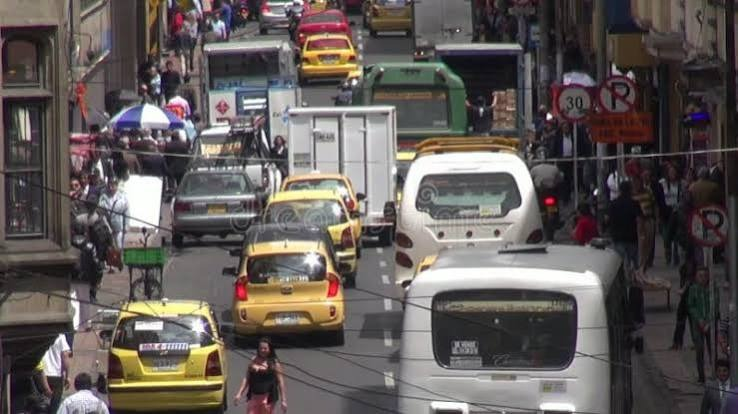car: (122, 1, 619, 246), (118, 1, 623, 229), (393, 231, 632, 413), (385, 139, 543, 284), (387, 140, 543, 281), (385, 139, 540, 278), (259, 137, 385, 260), (233, 193, 356, 318), (226, 222, 352, 344), (95, 298, 230, 406), (282, 103, 402, 216), (245, 184, 366, 282), (166, 160, 276, 248), (368, 57, 465, 155), (262, 174, 362, 260), (202, 38, 290, 131), (361, 61, 462, 142), (203, 39, 288, 132), (435, 40, 528, 124), (434, 40, 527, 122), (100, 100, 195, 174), (67, 174, 129, 272), (67, 177, 129, 274), (294, 10, 361, 88), (408, 1, 488, 61), (295, 19, 358, 87)
